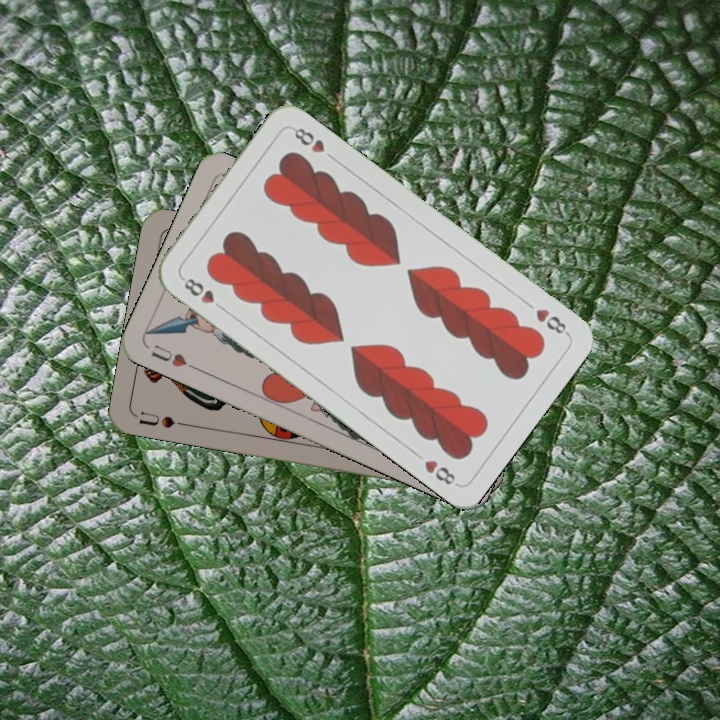H8: (177, 273, 228, 314), (531, 304, 572, 338)
HU: (146, 340, 200, 373)
SU: (132, 407, 191, 431)
